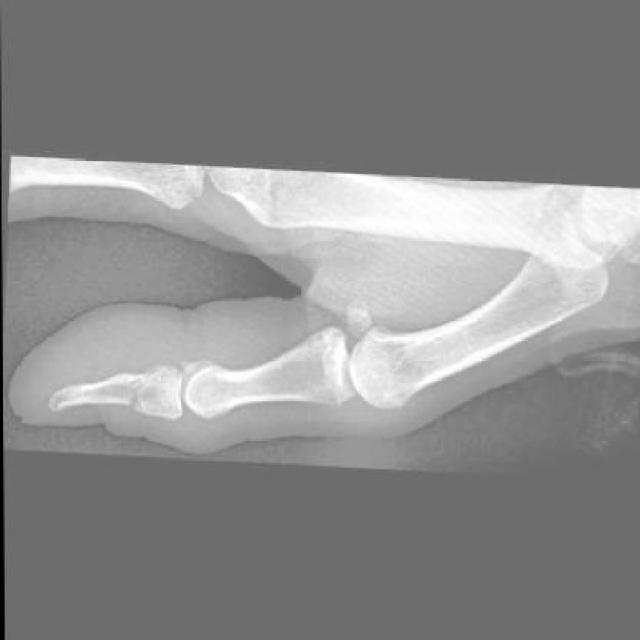Fracture: (102, 363, 161, 425)
